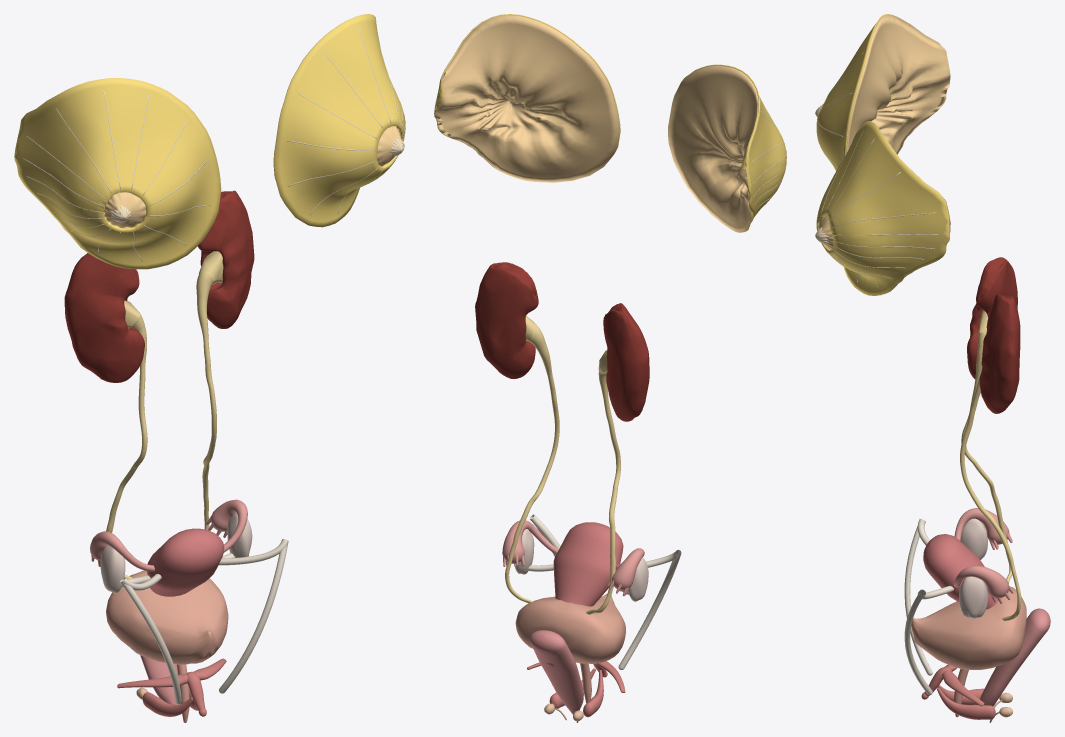
The model's file is female-urogenital.glb.
3 views of the same model, side by side, from view 1: azimuth 30°, elevation 25°; view 2: azimuth 150°, elevation 25°; view 3: azimuth 270°, elevation 25° (orthographic). The views are drawn at different scales.
Visible parts, largest first — view 1: Fat_of_breast_R, Fat_of_breast_L, Kidney_R, Urinary_bladder, Kidney_L, Uterus, Ureter_L, Round_ligament_of_uterus_L, Suspensory_ligaments_of_breast_R, Ureter_R, Round_ligament_of_uterus_R, Uterine_tube_L (+8 smaller); view 2: Mammary_gland_L, Mammary_gland_R, Kidney_L, Urinary_bladder, Uterus, Kidney_R, Fat_of_breast_R, Vagina, Ureter_L, Ureter_R, Round_ligament_of_uterus_R, Uterine_tube_L (+3 smaller); view 3: Fat_of_breast_L, Mammary_gland_R, Urinary_bladder, Kidney_L, Fat_of_breast_R, Uterus, Kidney_R, Vagina, Ureter_L, Suspensory_ligaments_of_breast_L, Ovary_L, Ureter_R (+7 smaller).
Boxes of the visible parts, x1,y1,x2,y2 form: Fat_of_breast_R: (14,78,221,269); Fat_of_breast_L: (274,14,405,227); Kidney_R: (64,253,144,382); Urinary_bladder: (106,570,228,664); Kidney_L: (197,190,254,328); Uterus: (147,528,224,596); Ureter_L: (196,272,216,529); Round_ligament_of_uterus_L: (219,539,288,693); Suspensory_ligaments_of_breast_R: (23,90,210,261); Ureter_R: (106,314,147,579); Round_ligament_of_uterus_R: (120,574,181,704); Uterine_tube_L: (211,499,247,552); Mammary_gland_L: (435,15,619,182); Mammary_gland_R: (668,65,758,232); Kidney_L: (475,262,538,378); Urinary_bladder: (515,594,625,663); Uterus: (546,522,623,666); Kidney_R: (603,303,649,421); Fat_of_breast_R: (681,64,786,232); Vagina: (529,630,583,714); Ureter_L: (505,326,559,603); Ureter_R: (586,364,620,614); Round_ligament_of_uterus_R: (618,549,681,669); Uterine_tube_L: (502,520,558,563); Fat_of_breast_L: (816,121,950,295); Mammary_gland_R: (820,15,950,154); Urinary_bladder: (911,586,1026,669); Kidney_L: (979,293,1020,413); Fat_of_breast_R: (816,14,949,170); Uterus: (923,534,998,609); Kidney_R: (967,257,1017,379); Vagina: (978,608,1050,706); Ureter_L: (960,371,1021,620); Suspensory_ligaments_of_breast_L: (816,130,938,287); Ovary_L: (959,576,987,618); Ureter_R: (961,332,1012,583).
Size of the model in its own units: 0.2558 by 0.4952 by 0.1637.
